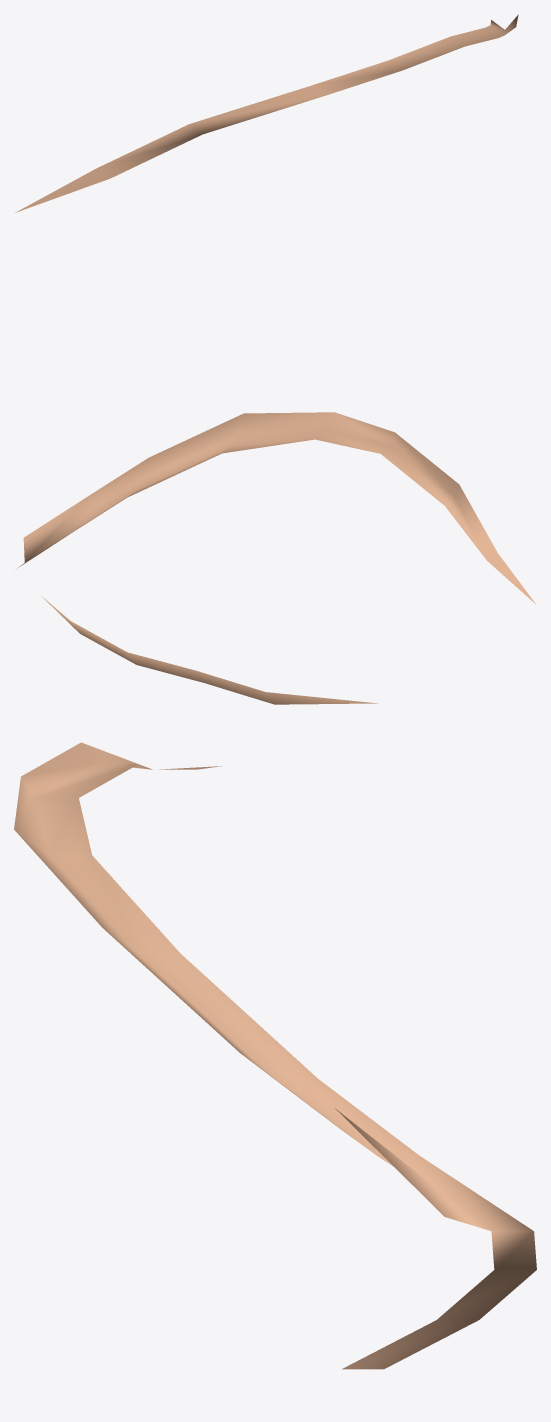
Rendered from eyelashes-r.glb.
3 renders of one model, top to bottom at view 1: azimuth 30°, elevation 25°; view 2: azimuth 150°, elevation 25°; view 3: azimuth 270°, elevation 25°, orthographic. The views are drawn at different scales.
Parts seen in each view (by area): view 1: Eyelashes.r; view 2: Eyelashes.r; view 3: Eyelashes.r.
Part boxes in pixels (x1,y1,x2,y2): Eyelashes.r: (15, 14, 518, 212); Eyelashes.r: (17, 412, 536, 704); Eyelashes.r: (14, 742, 536, 1369).
Size of the model in its own units: 0.0268 by 0.0152 by 0.0133.
